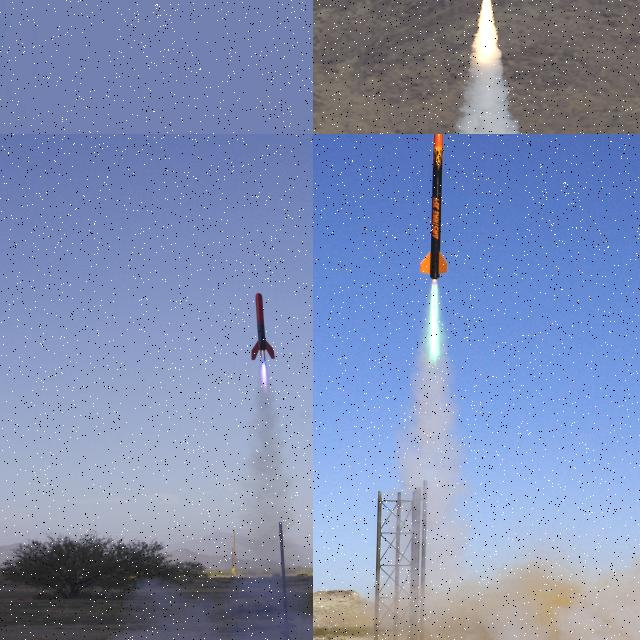Rocket: (418, 134, 450, 282), (252, 292, 276, 360)
